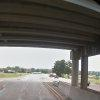Bridge: (3, 3, 95, 65)
